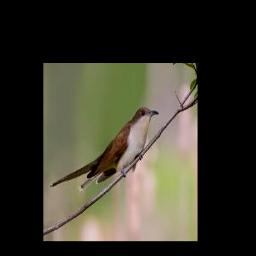Cuckoo: (49, 107, 159, 191)
